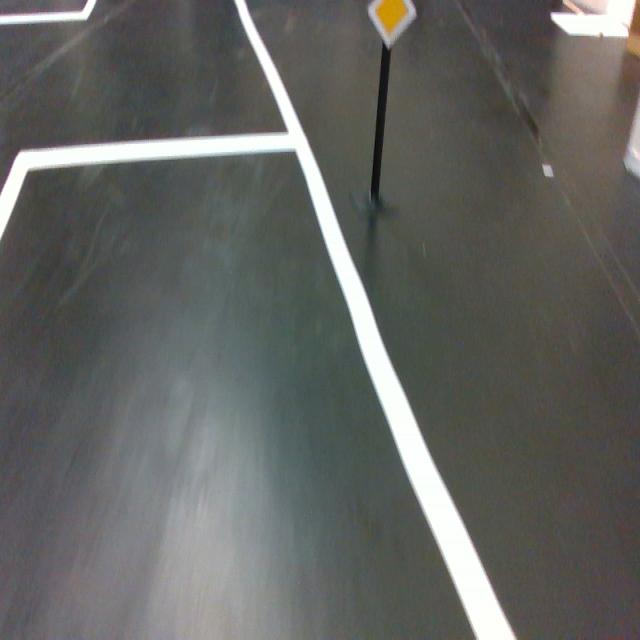priority-sign: (367, 0, 417, 51)
